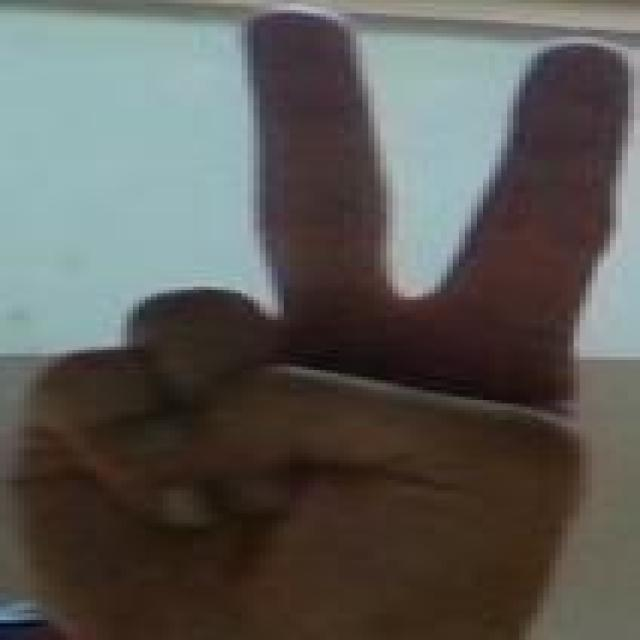V: (33, 9, 640, 544)
